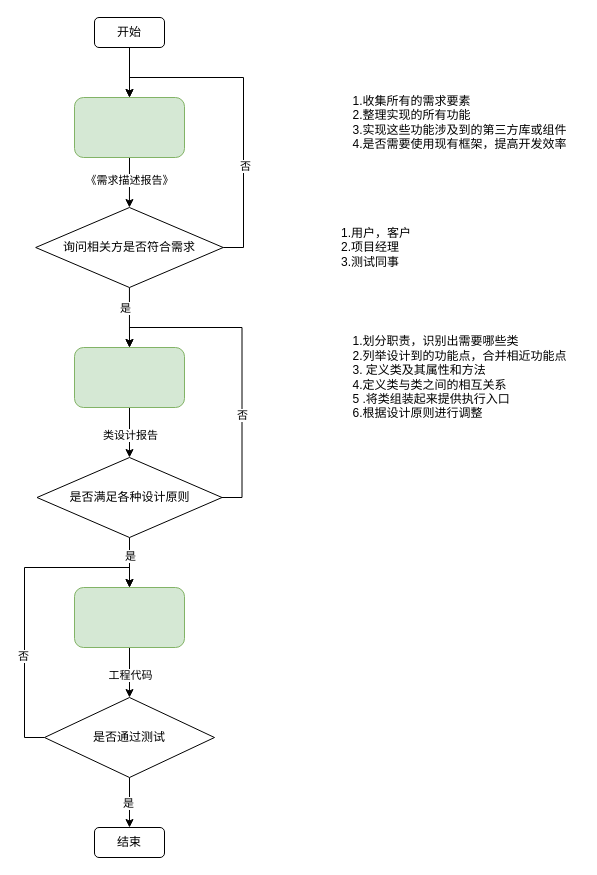
The diagram is 597 pixels wide and 875 high, and some of its shapes have lost their labels. Each missing label, with the centre of its shape:
面向对象分析: the point at 129,127
面向对象编程: the point at 129,617
面向对象设计: the point at 129,377
